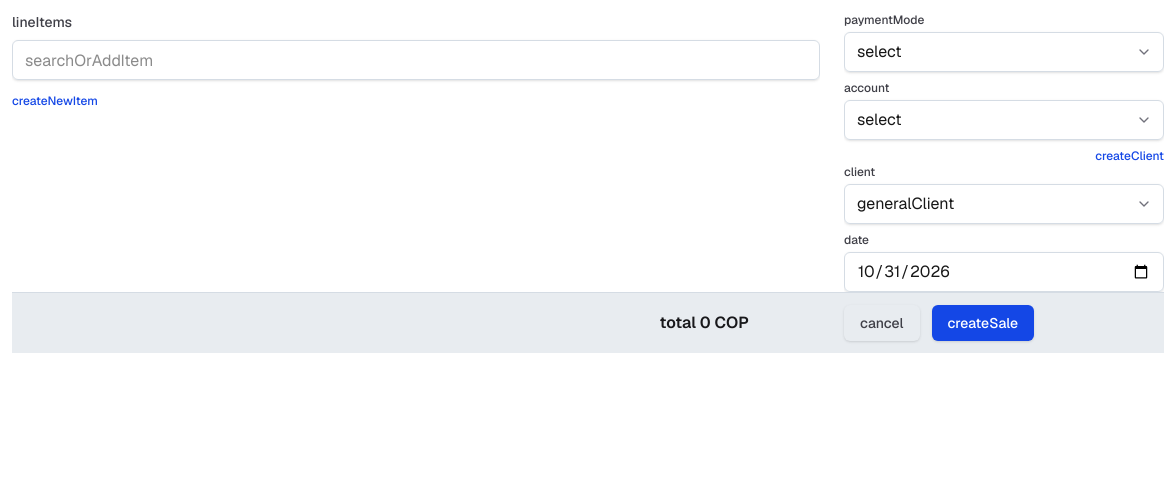
Test case: SaleForm visual hierarchy (C12-3b + C12-3c) › applies warning tint to credit-mode client hint when client is missing
Select "onCredit" in the dropdown labelled "paymentMode" at (1004, 52), box [844,32,1164,72]
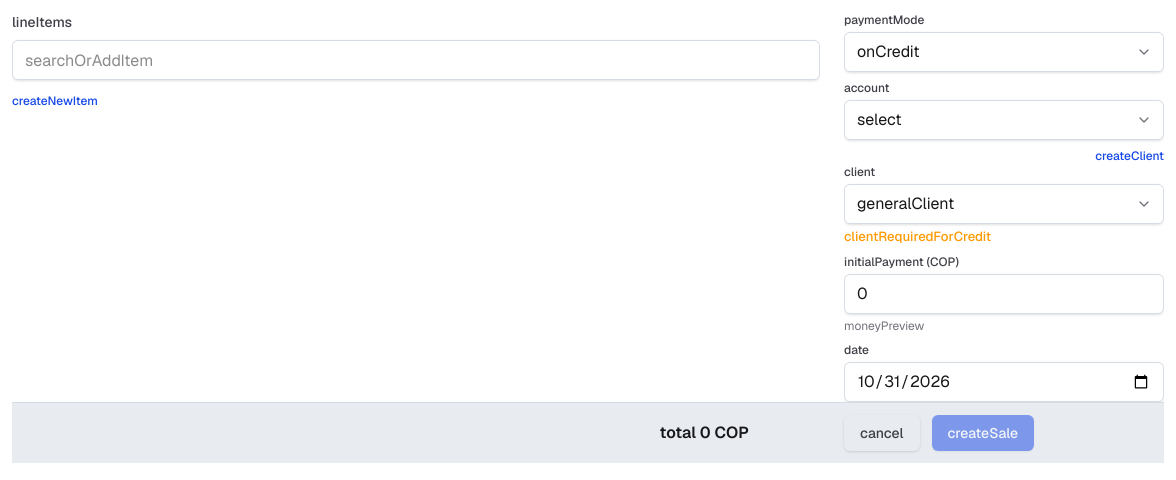
Result: the text "clientRequiredForCredit" is shown at [844,228,991,245]
